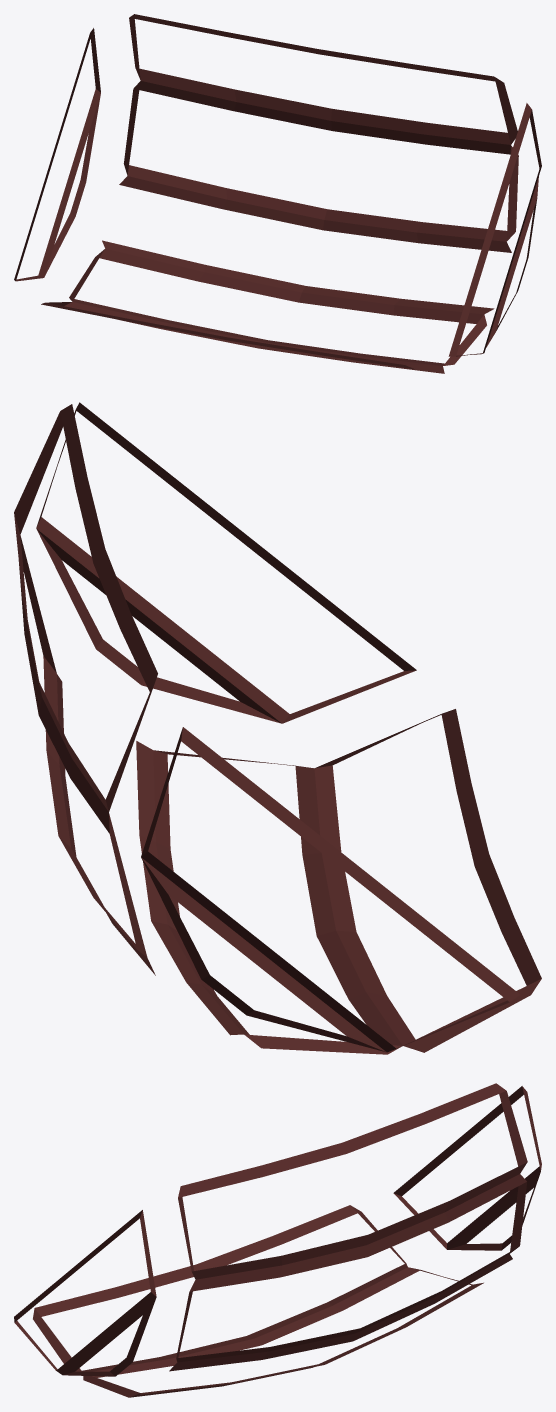
Rendered from n2_chest_top_dark_brown_0_lev2.002.glb.
3 views of the same model, one above another, from view 1: azimuth 30°, elevation 25°; view 2: azimuth 150°, elevation 25°; view 3: azimuth 270°, elevation 25° (orthographic). The views are drawn at different scales.
Parts seen in each view (by area): view 1: n2_chest_top_dark_brown_0_lev2.002; view 2: n2_chest_top_dark_brown_0_lev2.002; view 3: n2_chest_top_dark_brown_0_lev2.002.
Boxes of the visible parts, x1,y1,x2,y2 form: n2_chest_top_dark_brown_0_lev2.002: [14, 14, 541, 373]; n2_chest_top_dark_brown_0_lev2.002: [14, 402, 541, 1054]; n2_chest_top_dark_brown_0_lev2.002: [14, 1083, 541, 1397].
Size of the model in its own units: 1.7 by 0.9811 by 1.86.
